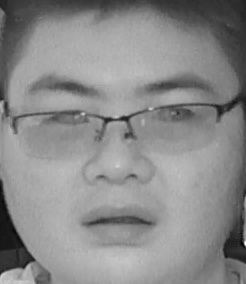eye: (44, 108, 91, 129), (151, 103, 195, 124)
glass: (9, 107, 108, 162), (128, 101, 221, 152)
mouth: (78, 199, 158, 242)
